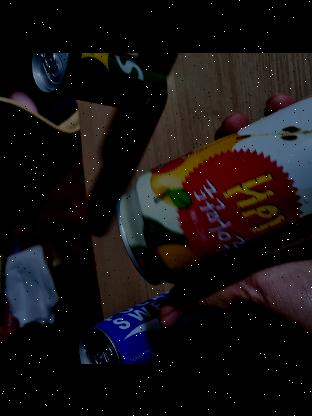Can: (117, 94, 312, 287)
